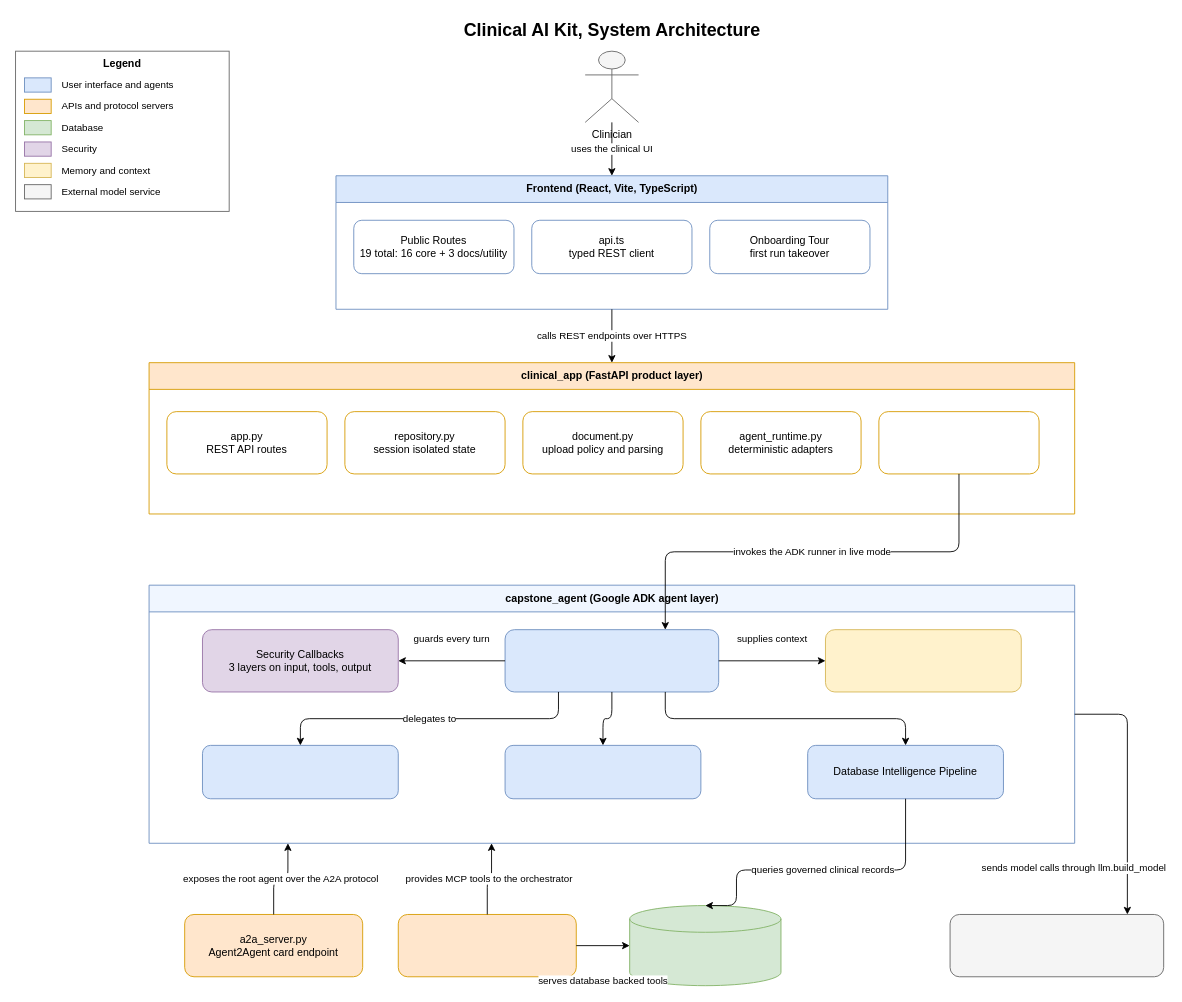
The diagram is 1182 pixels wide and 1002 high, and some of its shapes have lost their labels. The shapes that lost their labels are listed below. From the top down, each one's centre as x and y in pixels, then its label:
the point at 958,442: live_bridge.py lazy ADK execution bridge
the point at 611,660: clinical_orchestrator root LlmAgent, Gemini flash lite
the point at 923,660: Memory and Context 4 layer memory, token budgeting
the point at 300,771: Image Extraction Pipeline
the point at 602,771: Patient QA Pipeline
the point at 486,945: mcp_server/server.py MCP clinical tools
the point at 705,945: SQLite clinical database
the point at 1056,945: Gemini 3.1 on Vertex AI flash lite, pro, pro customtools
